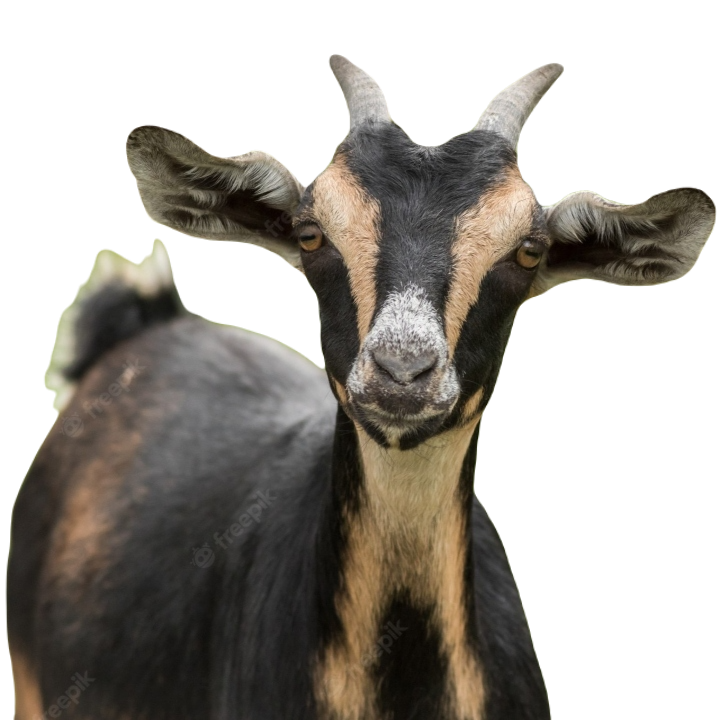Goat: (1, 56, 715, 717)
